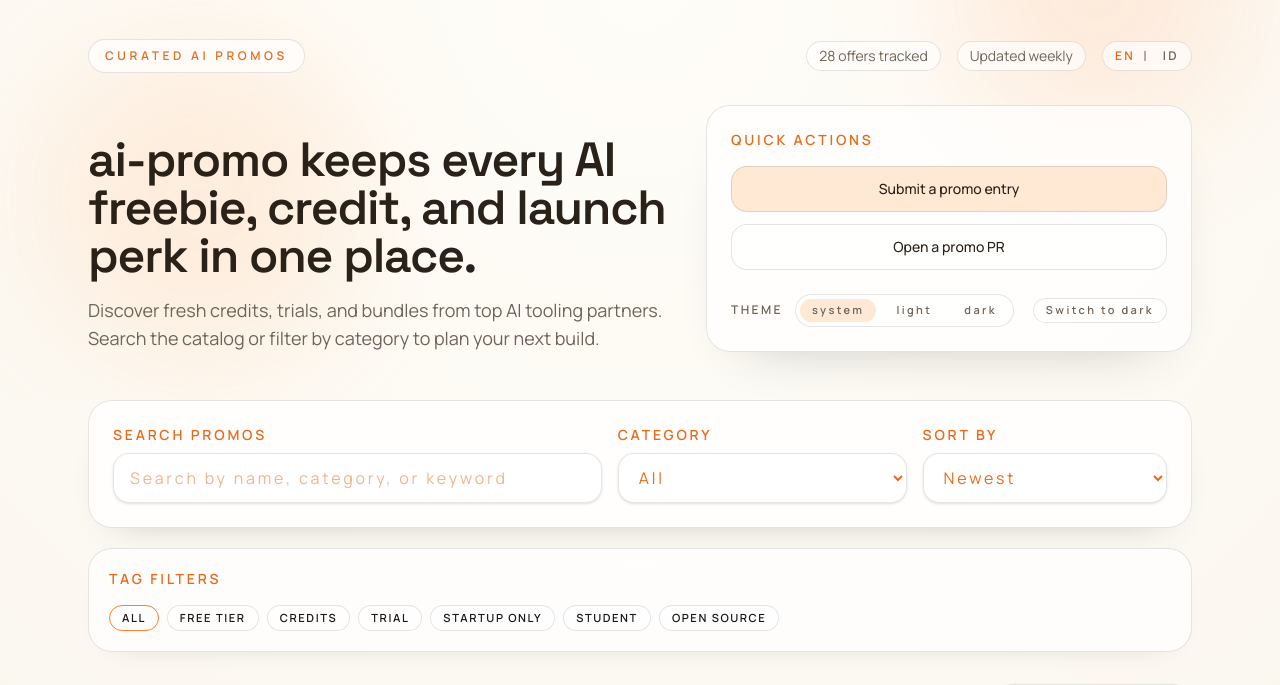
Scenario: Home page › shows an empty state when no entries match
This screenshot has width=1280, height=685.
Type "NoMatch" into the field labelled "Search promos" at (357, 478), box top-left (113, 453), bottom-right (602, 503)
(page scrolled)
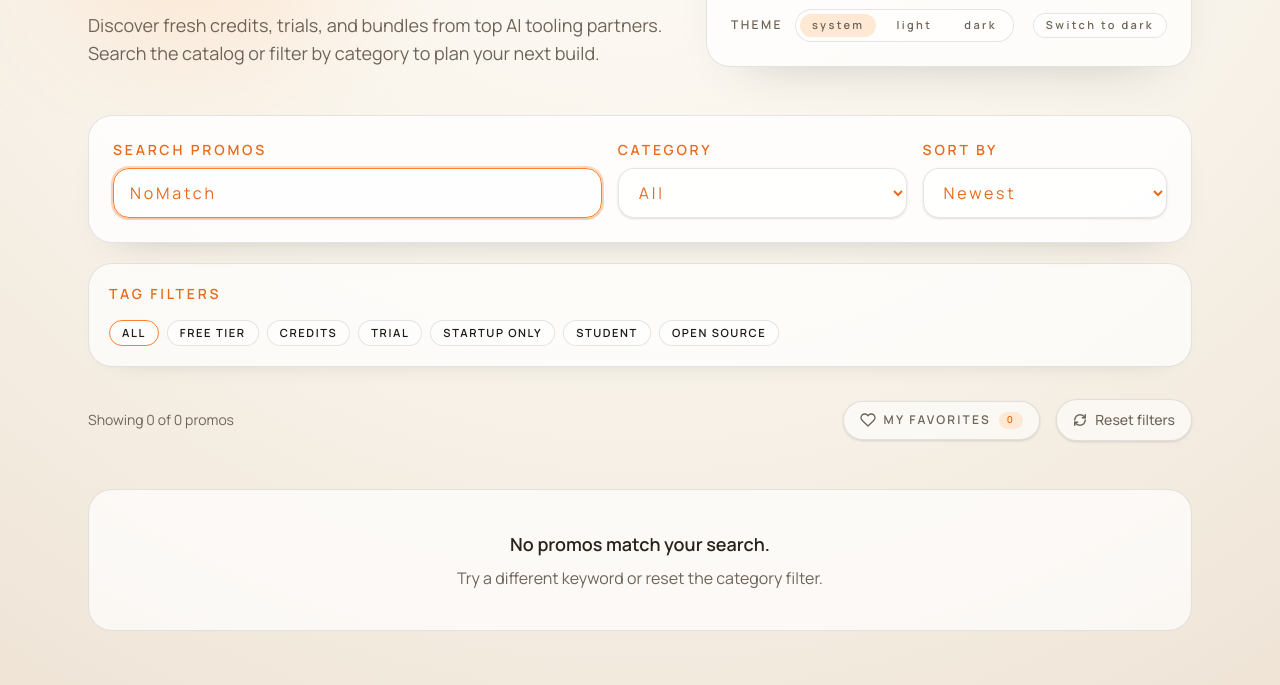
Expected: the text "No promos match your search." is shown, top-left (510, 532), bottom-right (770, 556)
